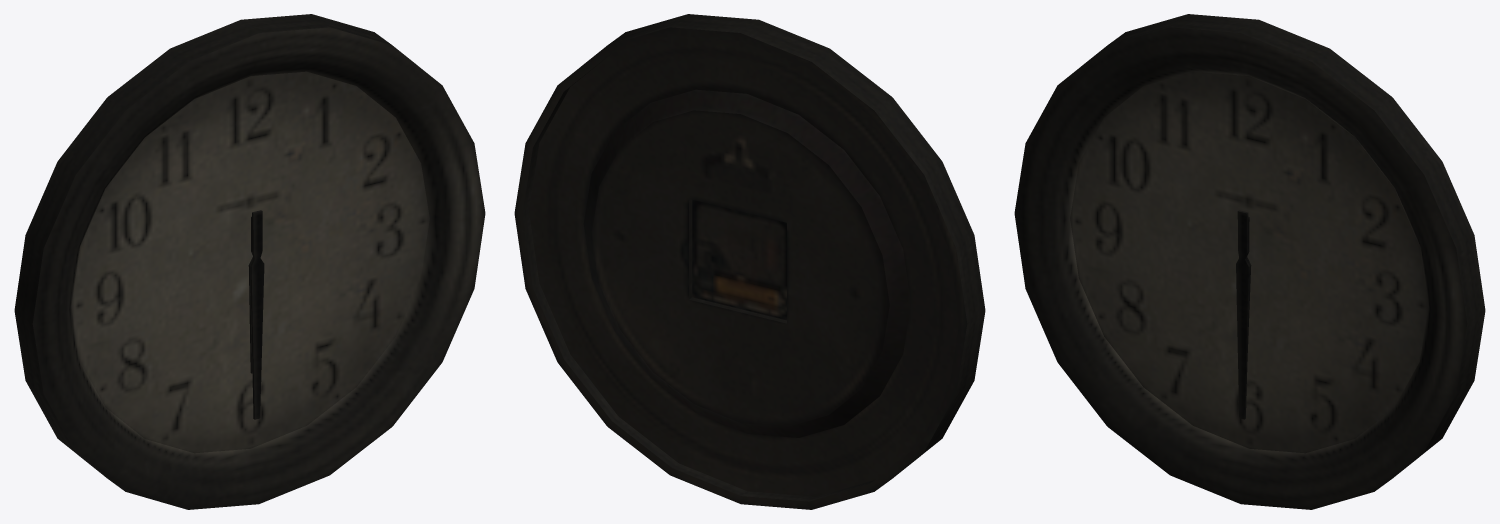
The model's file is clock_2.obj.
3 renders of one model, left to right at view 1: azimuth 30°, elevation 25°; view 2: azimuth 150°, elevation 25°; view 3: azimuth 330°, elevation 25°, orthographic.
Parts seen in each view (by area): view 1: clock_2, clock_2_arm_minutes; view 2: clock_2; view 3: clock_2, clock_2_arm_minutes.
Boxes of the visible parts, x1=… form: clock_2: x1=14, y1=14, x2=485, y2=509; clock_2_arm_minutes: x1=250, y1=210, x2=264, y2=419; clock_2: x1=514, y1=14, x2=985, y2=509; clock_2: x1=1014, y1=14, x2=1485, y2=509; clock_2_arm_minutes: x1=1236, y1=210, x2=1249, y2=419.
Size of the model in its own units: 0.2816 by 0.28 by 0.021.
